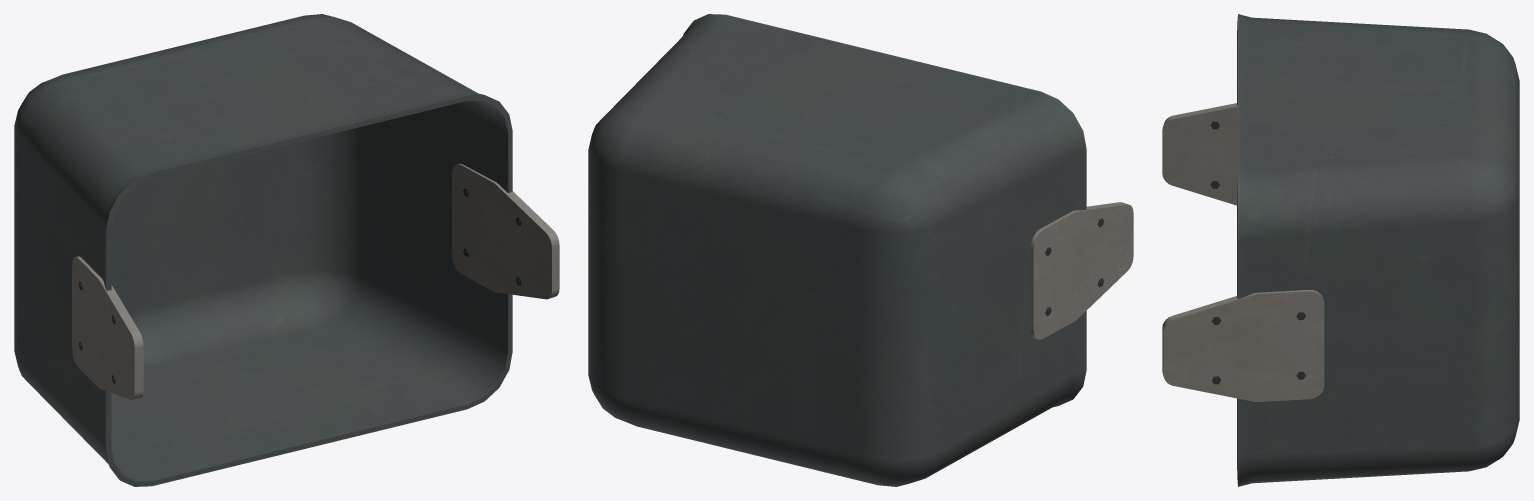
File: bucket.obj
3 views of the same model, side by side, from view 1: azimuth 30°, elevation 25°; view 2: azimuth 150°, elevation 25°; view 3: azimuth 270°, elevation 25° (orthographic).
Size of the model in its own units: 0.3387 by 0.239 by 0.249.
Materials: 1 (1 with a texture image).
